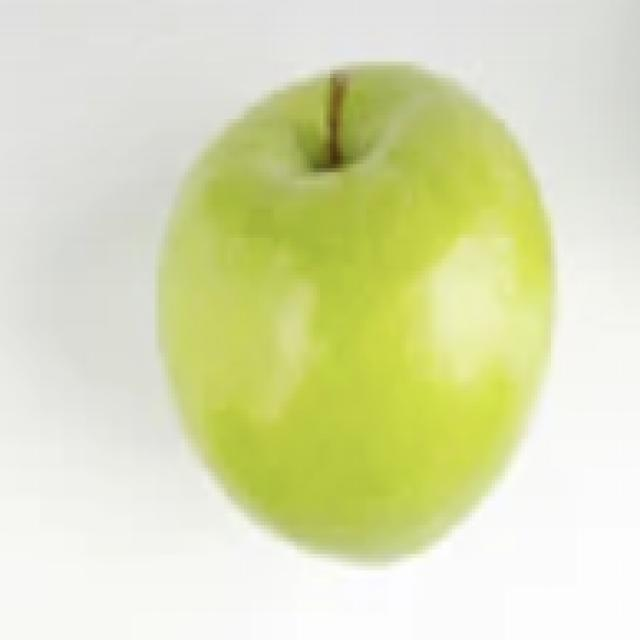Fresh Apple: (142, 64, 572, 544)
